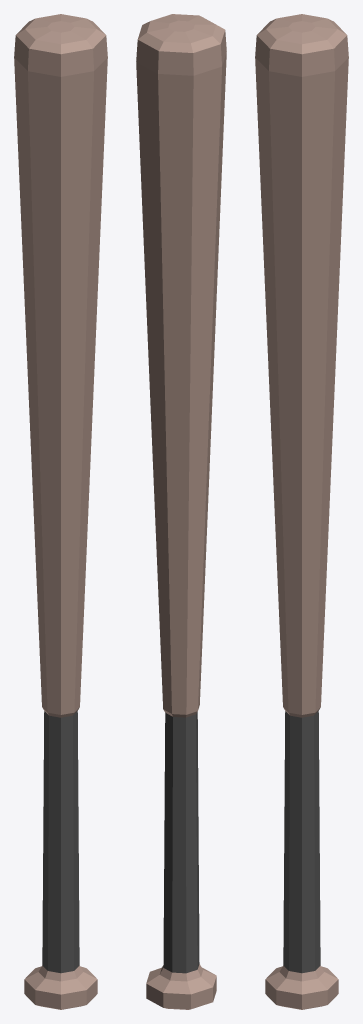
Rendered from baseball_bat.gltf.
3 views of the same model, side by side, from view 1: azimuth 90°, elevation 25°; view 2: azimuth 150°, elevation 25°; view 3: azimuth 270°, elevation 25° (orthographic).
Visible parts, largest first — view 1: node-0; view 2: node-0; view 3: node-0.
Boxes of the visible parts, x1,y1,x2,y2 form: node-0: (14, 14, 107, 1009); node-0: (136, 14, 226, 1009); node-0: (255, 14, 348, 1009).
Bounding box in the file's own units: 1.3 × 14.83 × 1.3.
